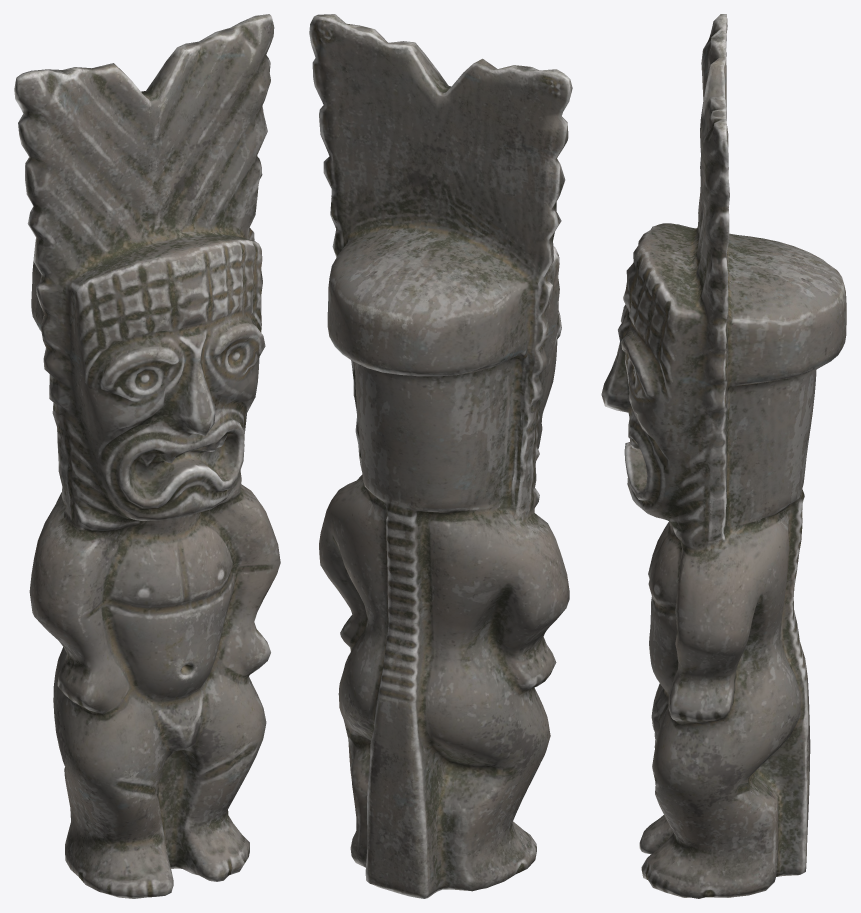
Rendered from Tiki God Sacred Crown Statue Stone.glb.
3 views of the same model, side by side, from view 1: azimuth 30°, elevation 25°; view 2: azimuth 150°, elevation 25°; view 3: azimuth 270°, elevation 25° (orthographic). The views are drawn at different scales.
Parts seen in each view (by area): view 1: Tiki_God_Statue_08_stone; view 2: Tiki_God_Statue_08_stone; view 3: Tiki_God_Statue_08_stone.
Boxes of the visible parts, bbox=[...] form: Tiki_God_Statue_08_stone: bbox=[14, 14, 280, 898]; Tiki_God_Statue_08_stone: bbox=[309, 14, 572, 898]; Tiki_God_Statue_08_stone: bbox=[601, 14, 846, 898].
Size of the model in its own units: 0.1652 by 0.4983 by 0.1398.
Materials: 1 (1 with a texture image).
